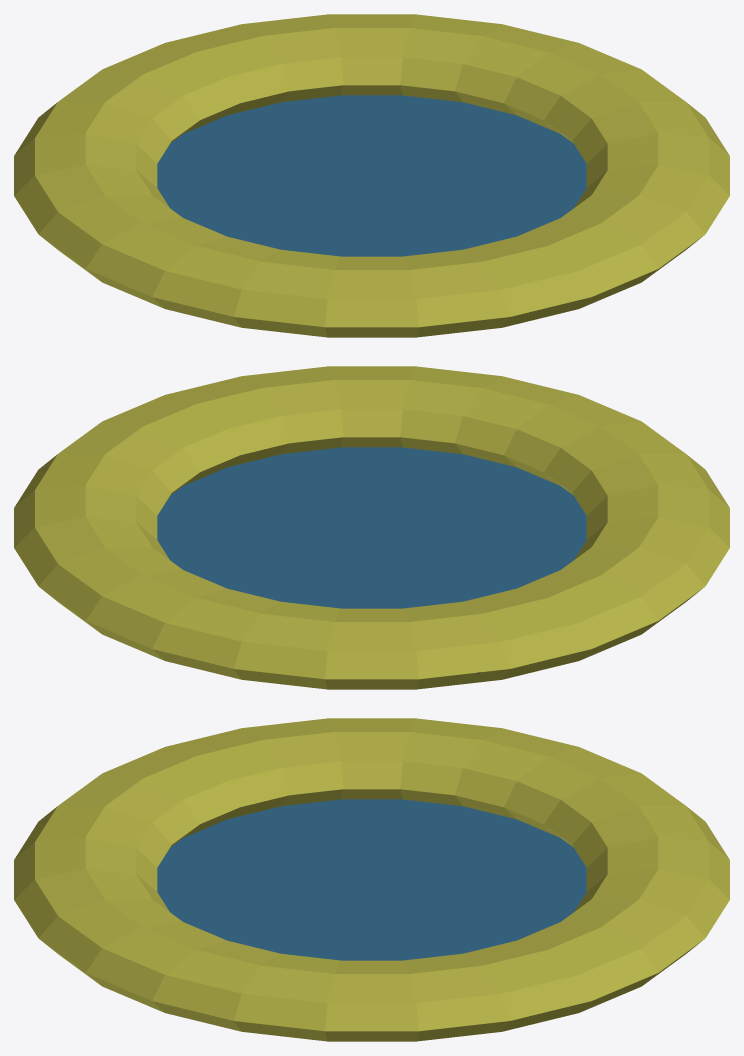
The picture shows the model from 3 angles, top to bottom: view 1: azimuth 30°, elevation 25°; view 2: azimuth 150°, elevation 25°; view 3: azimuth 270°, elevation 25°; orthographic projection.
Visible parts, largest first — view 1: torus, circle; view 2: torus, circle; view 3: torus, circle.
Boxes of the visible parts, x1,y1,x2,y2 form: torus: (14, 14, 729, 337); circle: (157, 95, 586, 256); torus: (14, 366, 729, 689); circle: (157, 447, 586, 608); torus: (14, 718, 729, 1041); circle: (157, 799, 586, 960).
Bounding box in the file's own units: 75 × 6.25 × 75.
Materials: 2 (2 with a texture image).
